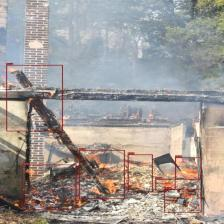fire: (6, 65, 62, 131), (22, 164, 76, 210), (79, 150, 125, 199), (128, 154, 152, 192), (164, 188, 201, 212), (175, 158, 201, 180), (155, 179, 176, 190)
